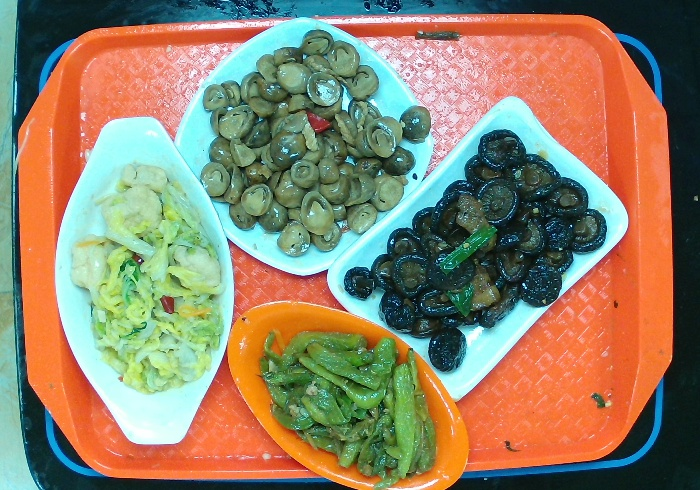RJxy-Ju_Huang_Tuo_Yuan: (223, 297, 478, 490)
RJxy-Si_Fang_Ao_Bian_Wan: (323, 93, 635, 403)
RJxy-Si_Fang_Die: (172, 14, 439, 281)
RJxy-Yu_Pan: (50, 114, 239, 447)
